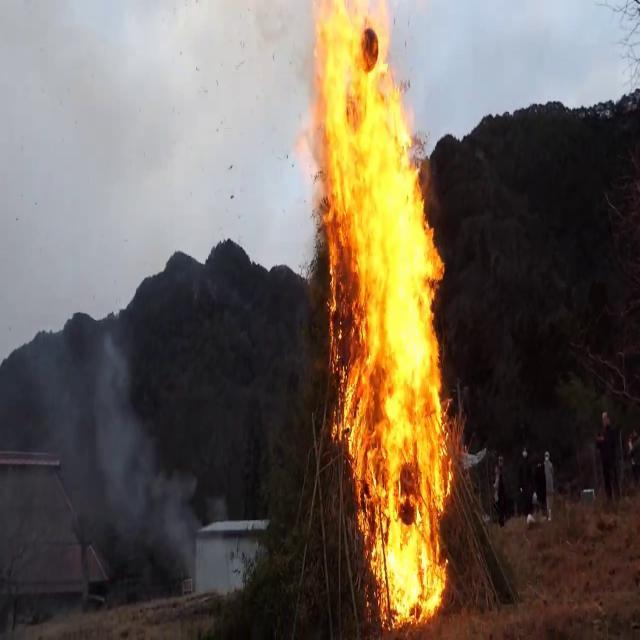Fire: (306, 0, 458, 626)
Smoke: (42, 317, 198, 598)
